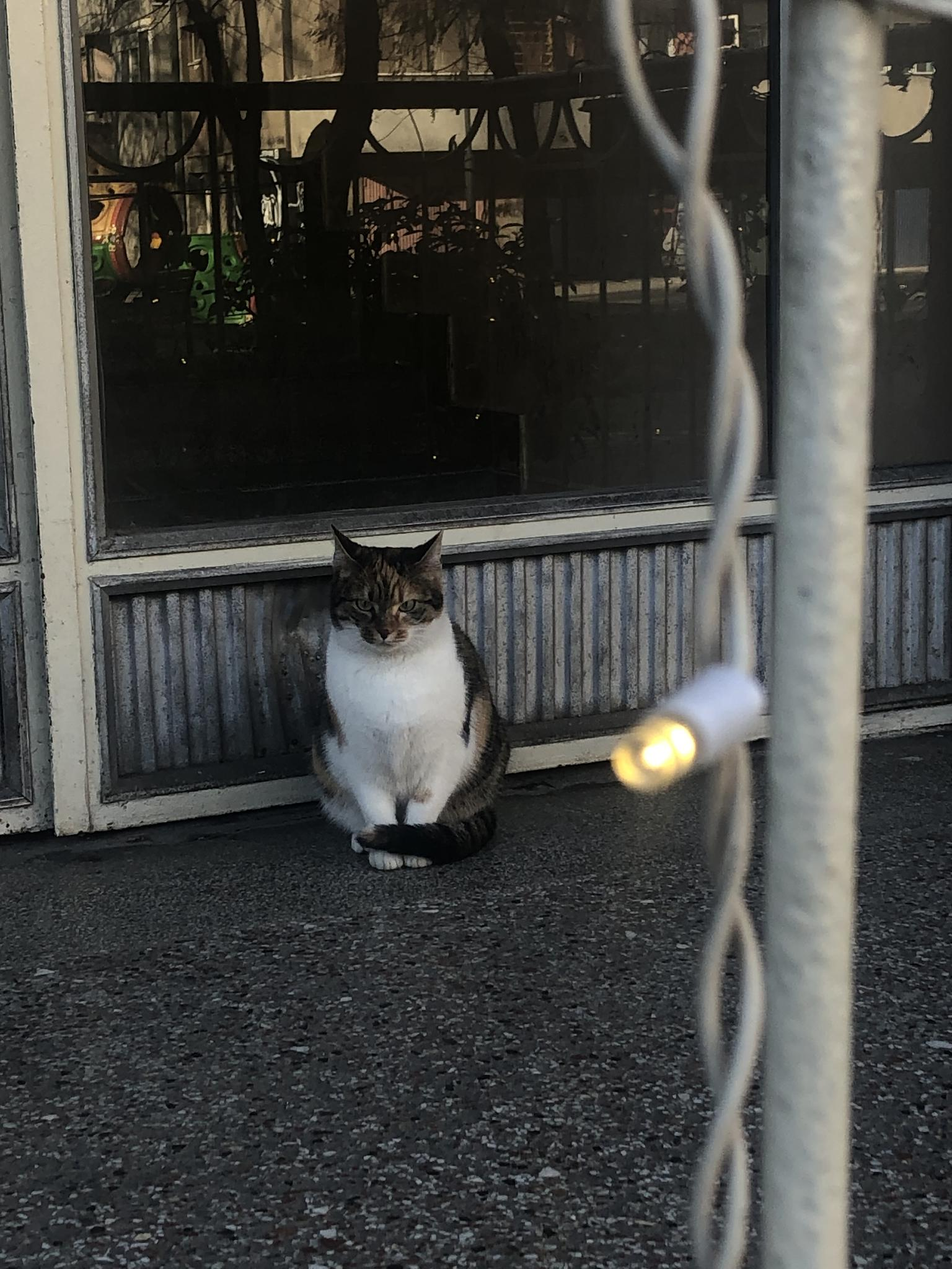macka: (305, 522, 519, 872)
